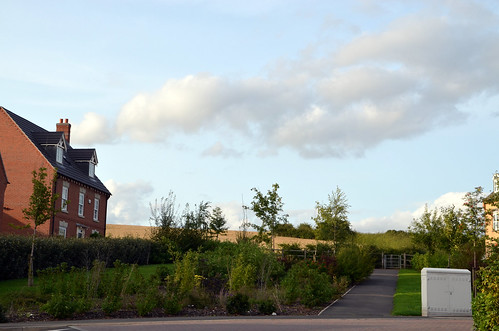building: (1, 103, 103, 237)
sky: (22, 1, 499, 193)
vegetation: (1, 235, 378, 311)
